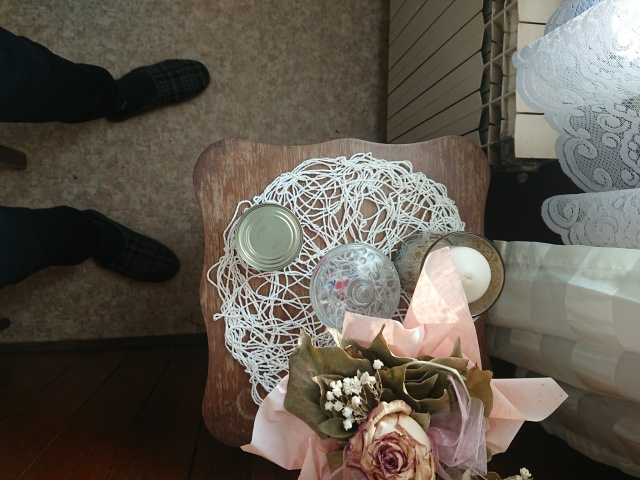Podravka Luncheon Meat 150g: (232, 200, 306, 273)
